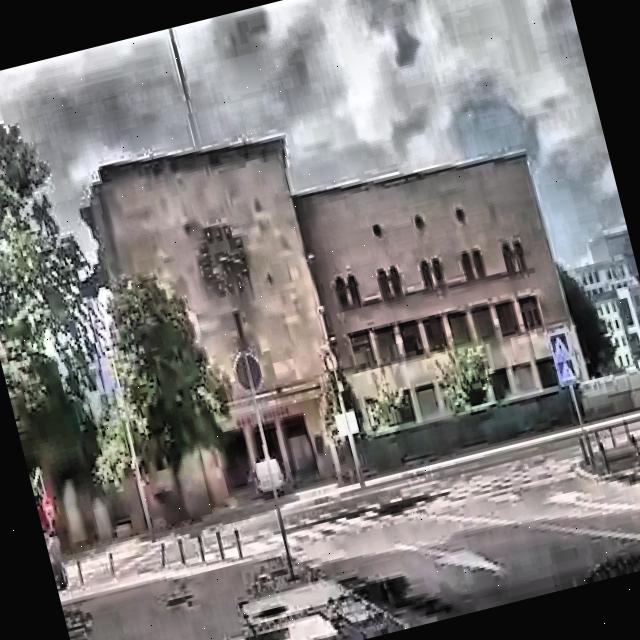old railway: (57, 57, 606, 534)
